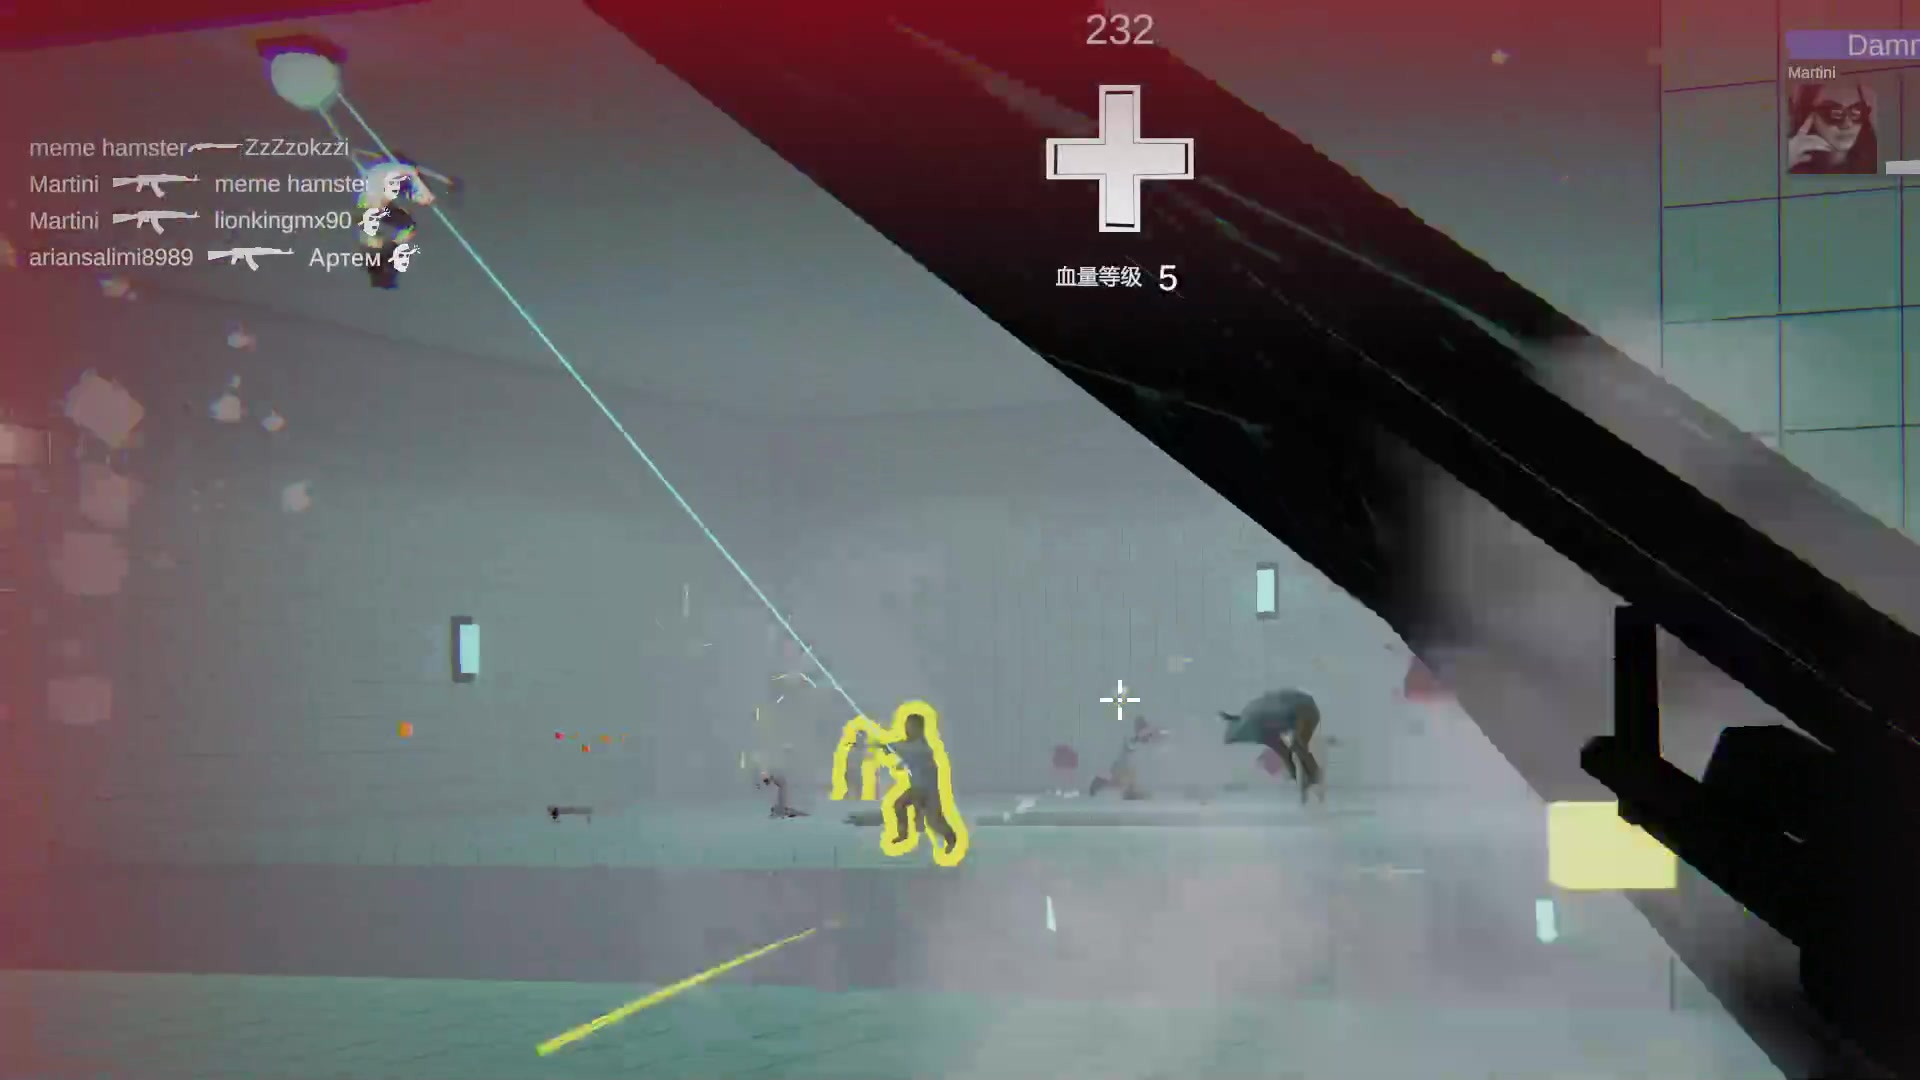human: (902, 698, 955, 849), (842, 712, 876, 805)
